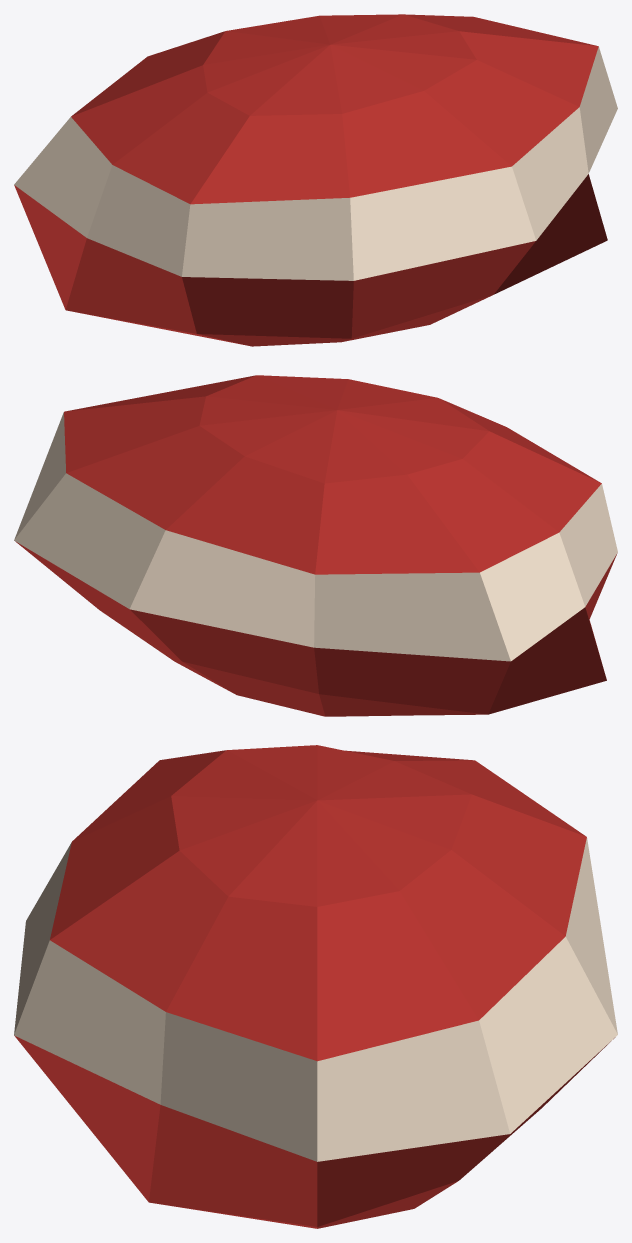
The model's file is Meat.obj.
3 views of the same model, one above another, from view 1: azimuth 30°, elevation 25°; view 2: azimuth 150°, elevation 25°; view 3: azimuth 270°, elevation 25° (orthographic). The views are drawn at different scales.
Visible parts, largest first — view 1: Meat; view 2: Meat; view 3: Meat.
Boxes of the visible parts, x1,y1,x2,y2 form: Meat: (14,14,617,346); Meat: (14,375,617,716); Meat: (14,745,617,1228).
Bounding box in the file's own units: 0.5609 × 0.26 × 0.4031.
